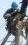hard-hat: (10, 2, 18, 8)
